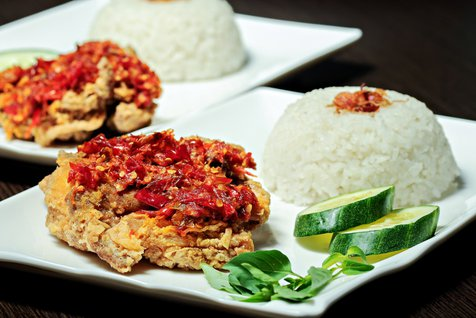ayam_geprek: (54, 138, 268, 273), (5, 47, 150, 140)
